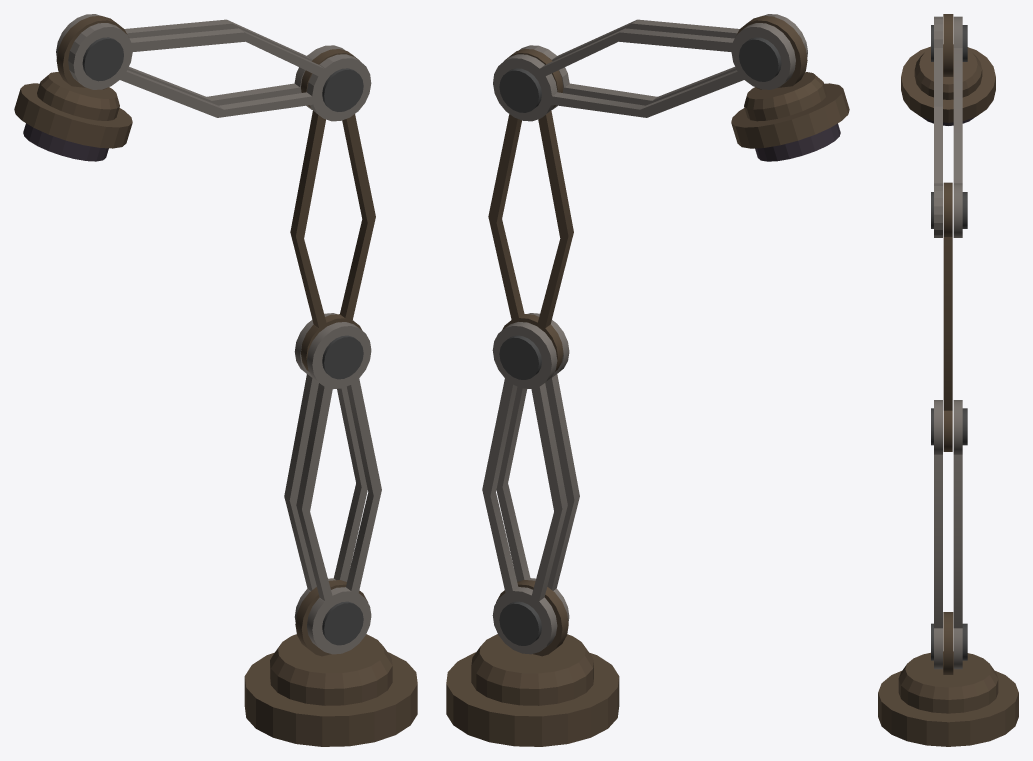
The model's file is 48_street_lamp.fbx.
The picture shows the model from 3 angles, left to right: view 1: azimuth 30°, elevation 25°; view 2: azimuth 150°, elevation 25°; view 3: azimuth 270°, elevation 25°; orthographic projection. The views are drawn at different scales.
Parts seen in each view (by area): view 1: pCylinder200, pCylinder206, pCylinder209, pCylinder211, pCylinder208, pCylinder204, pCylinder210, pCylinder243, pCylinder203, pCylinder215, pCylinder214, pCylinder212 (+1 smaller); view 2: pCylinder200, pCylinder204, pCylinder210, pCylinder211, pCylinder208, pCylinder206, pCylinder209, pCylinder218, pCylinder219, pCylinder239, pCylinder217, pCylinder212 (+1 smaller); view 3: pCylinder200, pCylinder211, pCylinder204, pCylinder208, pCylinder206, pCylinder210, pCylinder209, pCylinder244, pCylinder212.
Boxes of the visible parts, <box> form: pCylinder200: <box>244,634,417,746</box>; pCylinder206: <box>296,322,381,654</box>; pCylinder209: <box>68,23,371,121</box>; pCylinder211: <box>14,72,132,161</box>; pCylinder208: <box>290,49,375,371</box>; pCylinder204: <box>284,313,367,621</box>; pCylinder210: <box>56,14,345,109</box>; pCylinder243: <box>322,335,363,379</box>; pCylinder203: <box>322,601,363,645</box>; pCylinder215: <box>82,37,123,81</box>; pCylinder214: <box>322,68,363,111</box>; pCylinder212: <box>56,15,127,89</box>; pCylinder200: <box>446,634,619,746</box>; pCylinder204: <box>482,322,567,654</box>; pCylinder210: <box>493,23,795,121</box>; pCylinder211: <box>731,72,849,161</box>; pCylinder208: <box>488,49,573,371</box>; pCylinder206: <box>496,313,579,621</box>; pCylinder209: <box>519,14,807,109</box>; pCylinder218: <box>499,68,541,112</box>; pCylinder219: <box>739,37,781,81</box>; pCylinder239: <box>499,601,541,645</box>; pCylinder217: <box>499,335,541,379</box>; pCylinder212: <box>736,15,807,89</box>; pCylinder200: <box>878,651,1018,746</box>; pCylinder211: <box>901,44,995,125</box>; pCylinder204: <box>953,400,962,669</box>; pCylinder208: <box>943,182,952,451</box>; pCylinder206: <box>934,400,942,669</box>; pCylinder210: <box>953,16,962,237</box>; pCylinder209: <box>934,16,942,237</box>; pCylinder244: <box>943,612,953,674</box>; pCylinder212: <box>943,14,953,76</box>.
Size of the model in its own units: 2.13 by 3.96 by 0.8334.
